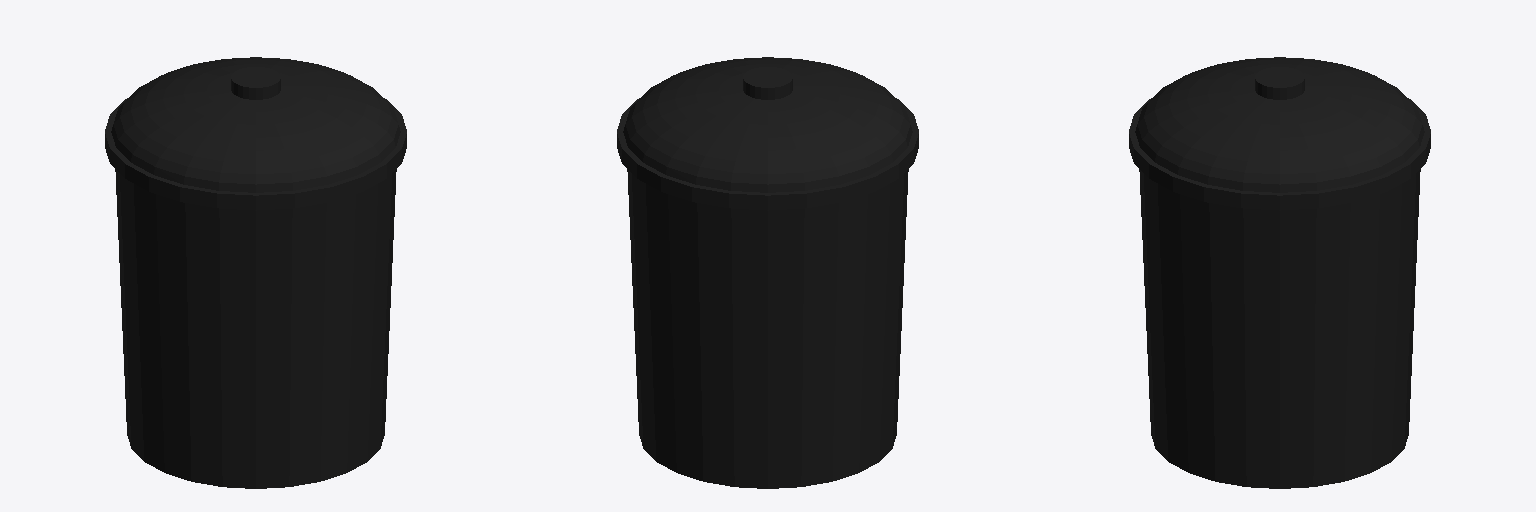
Rendered from Garbage_Bin.obj.
3 views of the same model, side by side, from view 1: azimuth 30°, elevation 25°; view 2: azimuth 150°, elevation 25°; view 3: azimuth 270°, elevation 25° (orthographic).
Parts seen in each view (by area): view 1: Garbage_Bin_Q; view 2: Garbage_Bin_Q; view 3: Garbage_Bin_Q.
Part boxes in pixels (left/top/right/bottom): Garbage_Bin_Q: left=105, top=57, right=406, bottom=488; Garbage_Bin_Q: left=617, top=57, right=918, bottom=488; Garbage_Bin_Q: left=1129, top=57, right=1430, bottom=488.
Bounding box in the file's own units: 0.4574 × 0.5956 × 0.4574.